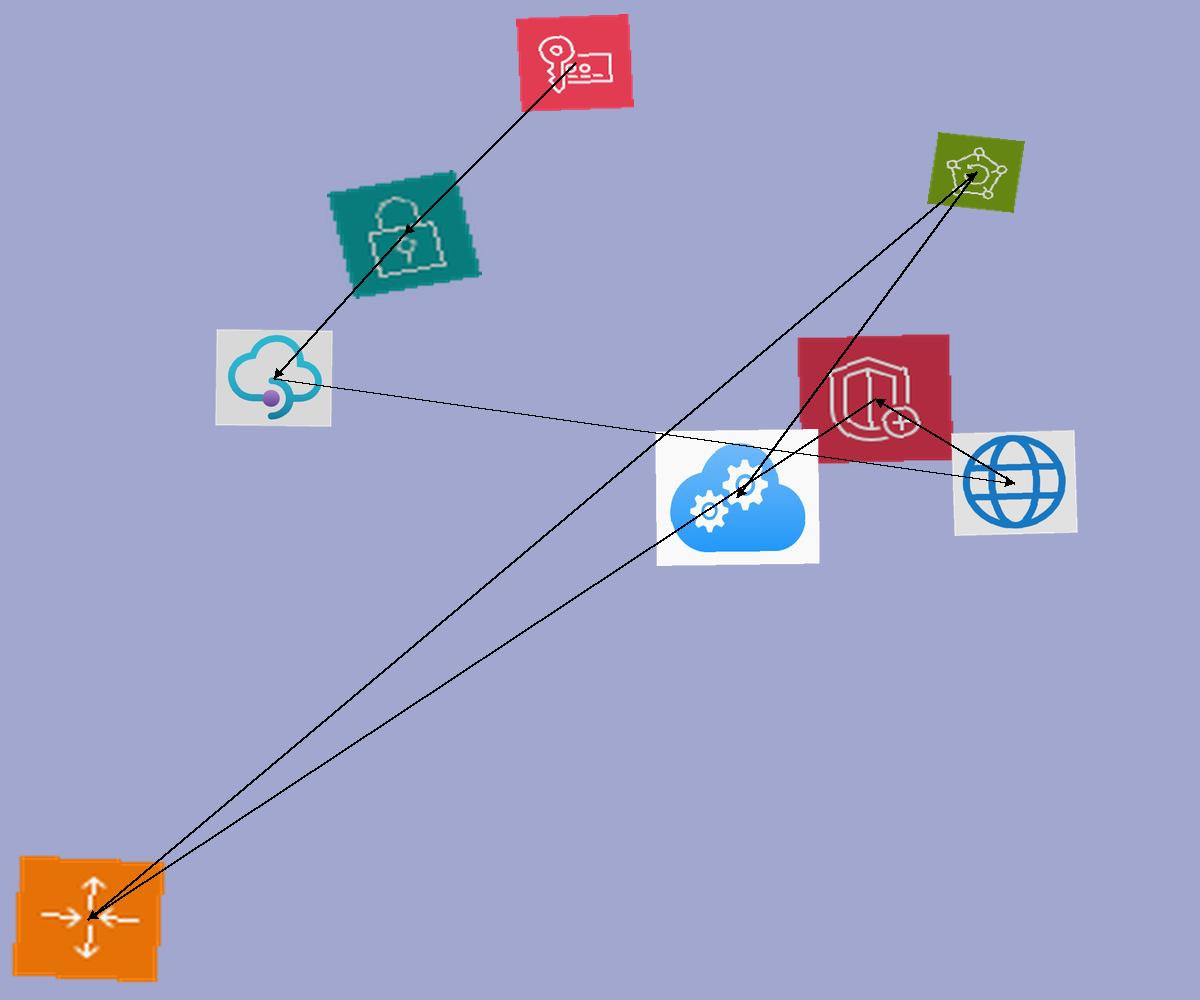AWS-Backup: (927, 132, 1025, 213)
AWS-Key-Management-Service: (516, 14, 634, 112)
AWS-Private-subnet: (327, 170, 482, 299)
AWS-Scaling-group: (9, 853, 168, 985)
AWS-Shield: (796, 333, 955, 465)
Azure_api_gateway: (215, 329, 333, 427)
Azure_cloud_services: (655, 429, 820, 566)
Azure_http: (951, 430, 1078, 536)
